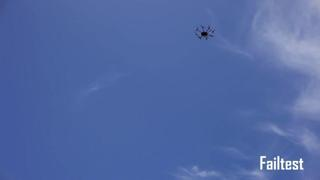UAV: (195, 25, 216, 40)
